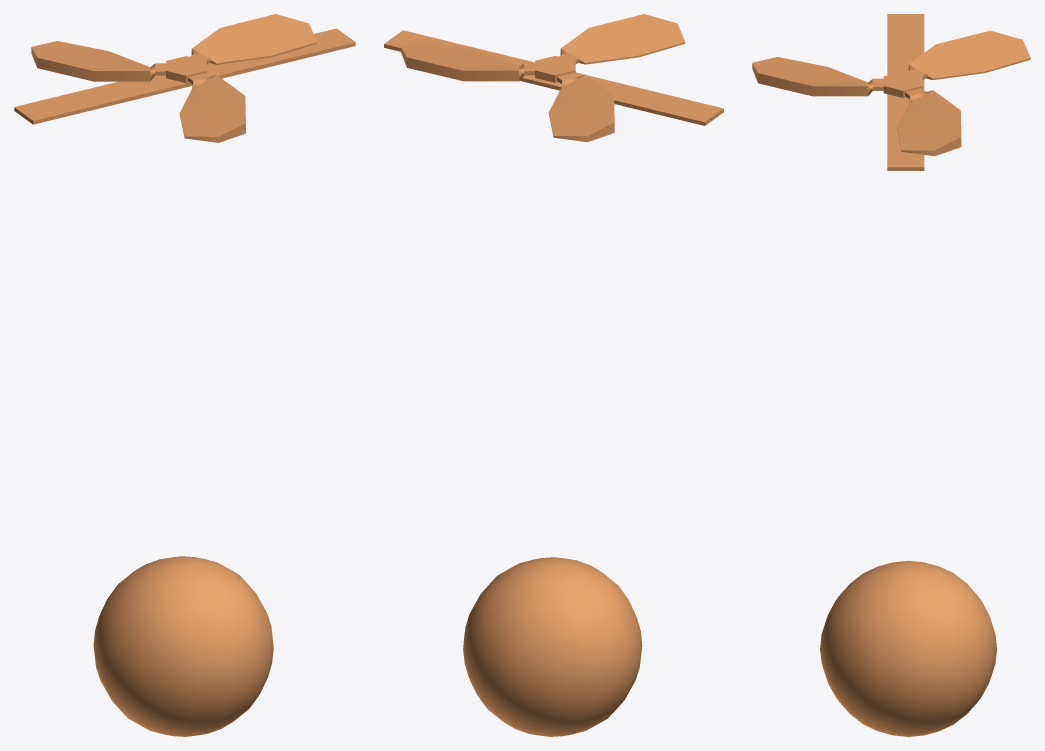
File: cylendricalDetail_01.fbx
The picture shows the model from 3 angles, left to right: view 1: azimuth 30°, elevation 25°; view 2: azimuth 150°, elevation 25°; view 3: azimuth 270°, elevation 25°; orthographic projection. The views are drawn at different scales.
Parts seen in each view (by area): view 1: sphere_01, fan01, fanMount_01; view 2: sphere_01, fan01, fanMount_01; view 3: sphere_01, fan01, fanMount_01.
Boxes of the visible parts, bbox=[...] form: sphere_01: bbox=[93, 556, 273, 736]; fan01: bbox=[31, 14, 316, 142]; fanMount_01: bbox=[14, 28, 355, 124]; sphere_01: bbox=[463, 557, 642, 736]; fan01: bbox=[401, 14, 685, 142]; fanMount_01: bbox=[384, 30, 723, 125]; sphere_01: bbox=[820, 560, 996, 736]; fan01: bbox=[752, 30, 1030, 156]; fanMount_01: bbox=[887, 14, 924, 170].
Size of the model in its own units: 9.8 by 19.34 by 7.52.
